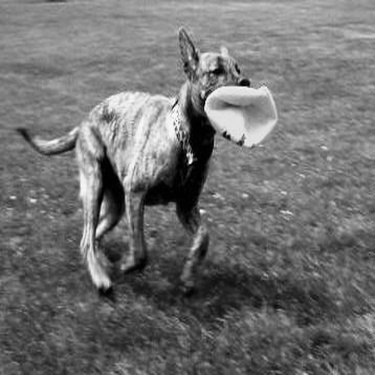dog: (15, 23, 251, 299)
